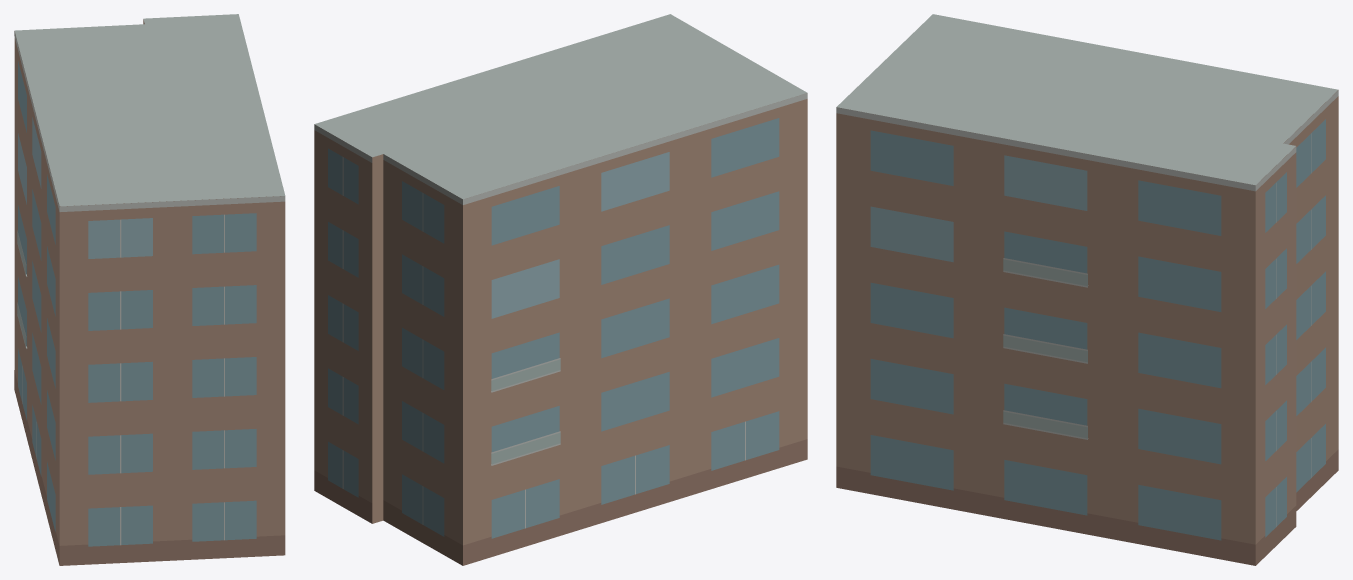
File: survey-upis-32574694.glb
3 views of the same model, side by side, from view 1: azimuth 30°, elevation 25°; view 2: azimuth 150°, elevation 25°; view 3: azimuth 270°, elevation 25° (orthographic). The views are drawn at different scales.
Visible parts, largest first — view 1: survey-upis-32574694.tmp; view 2: survey-upis-32574694.tmp; view 3: survey-upis-32574694.tmp.
Boxes of the visible parts, bbox=[...] form: survey-upis-32574694.tmp: bbox=[14, 14, 285, 565]; survey-upis-32574694.tmp: bbox=[314, 14, 807, 565]; survey-upis-32574694.tmp: bbox=[836, 14, 1338, 565].
Size of the model in its own units: 14.78 by 15.3 by 18.31.
